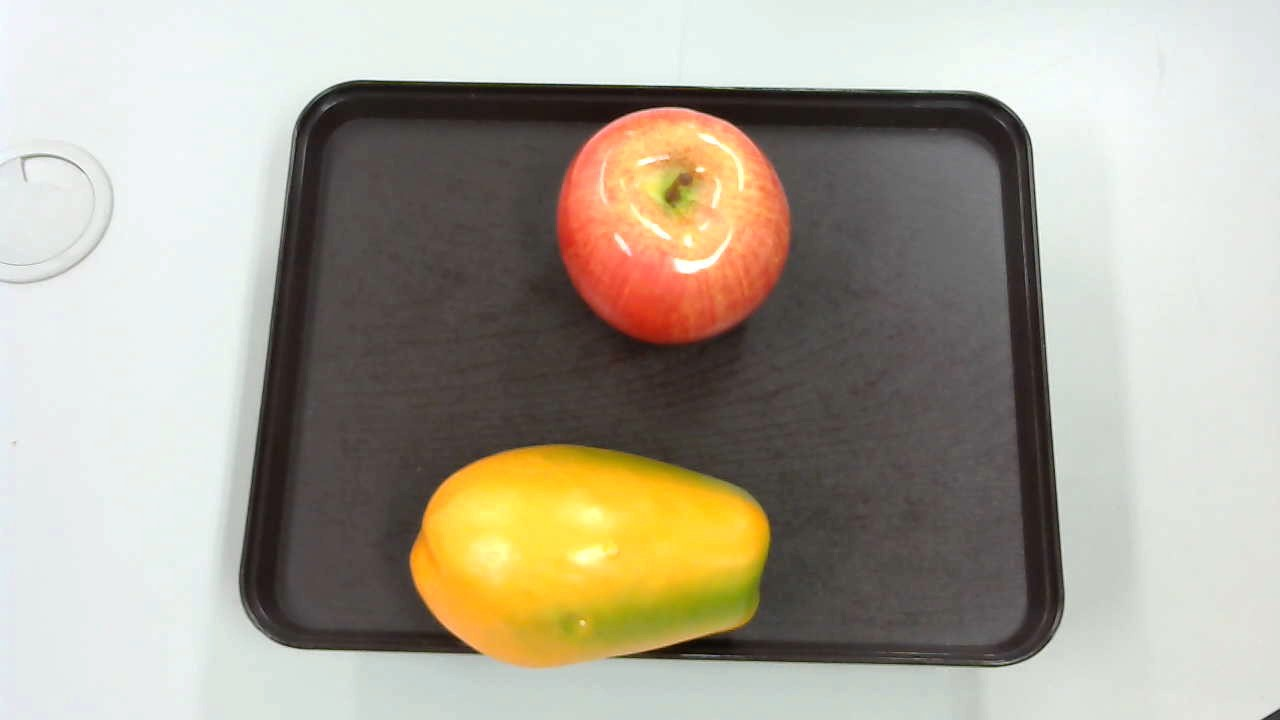papya: (407, 441, 780, 674)
red apple: (549, 105, 793, 347)
